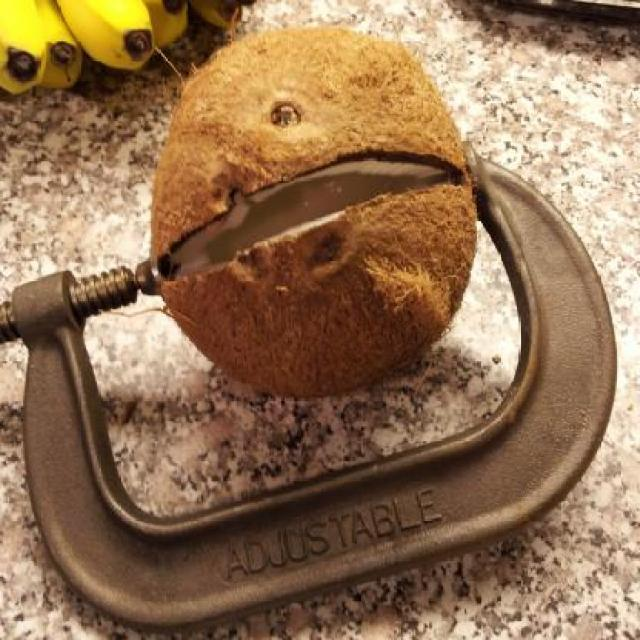Banana: (0, 0, 251, 97), (53, 0, 154, 72)
